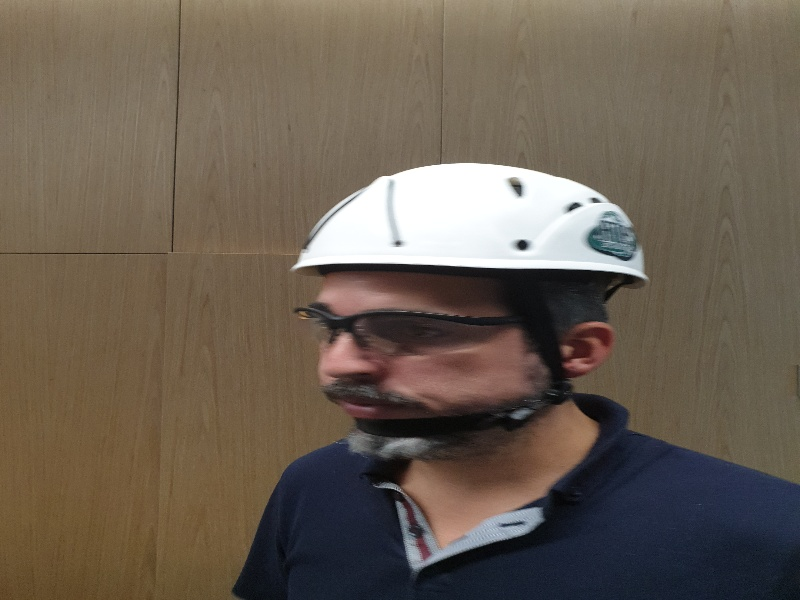Baret: (289, 161, 648, 285)
Gozluk: (293, 304, 522, 357)
